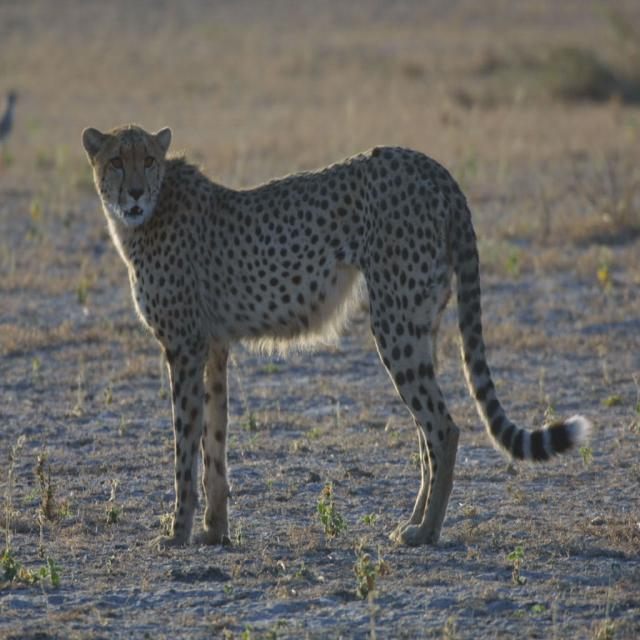Cheetah: (80, 123, 588, 546)
